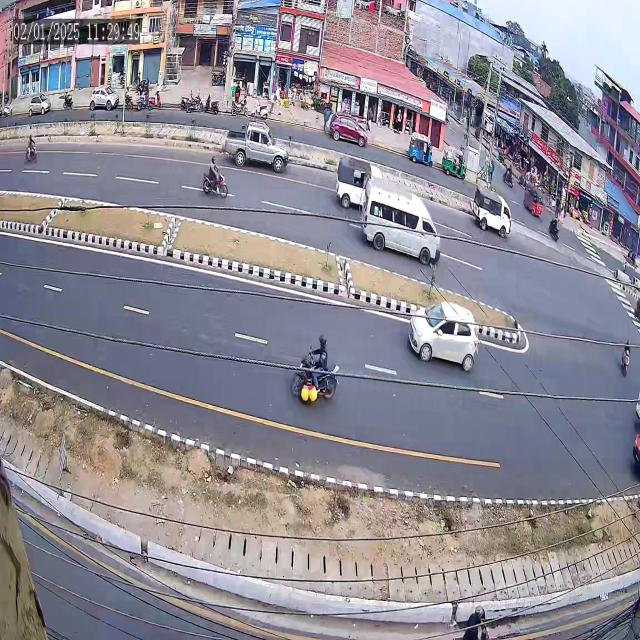car: (395, 289, 482, 385), (214, 111, 290, 176), (81, 82, 122, 117), (21, 96, 52, 120)
motorcycle: (280, 320, 348, 424), (188, 152, 229, 201), (611, 326, 634, 389), (20, 129, 46, 167), (547, 214, 562, 252)
